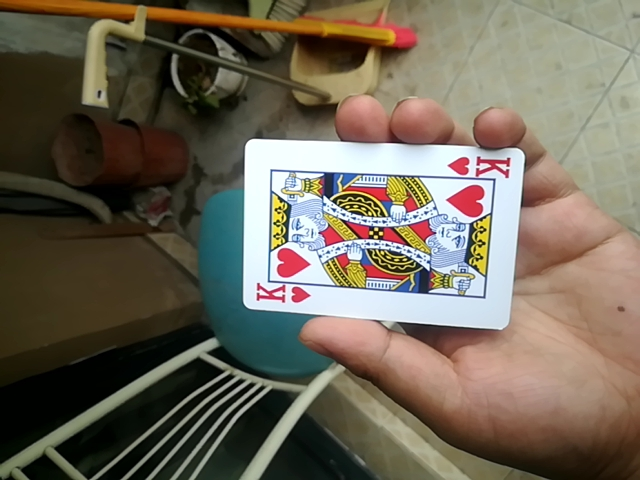hx k: (237, 136, 517, 326)
